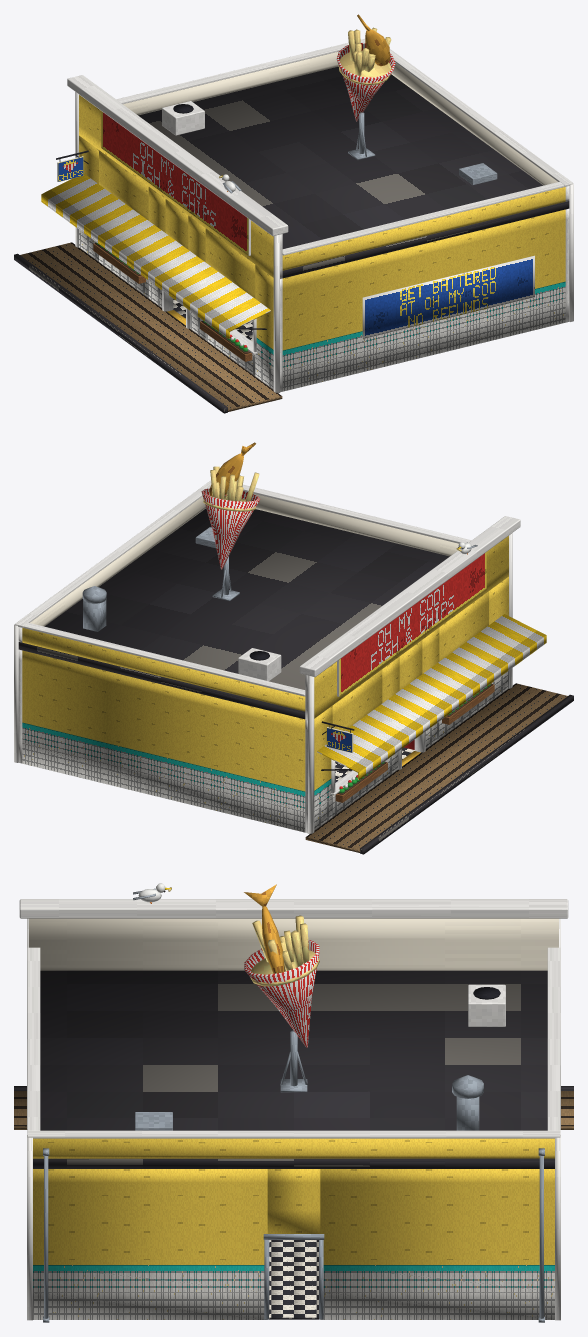
Rendered from p_pj_cod.glb.
The picture shows the model from 3 angles, top to bottom: view 1: azimuth 30°, elevation 25°; view 2: azimuth 150°, elevation 25°; view 3: azimuth 270°, elevation 25°; orthographic projection. The views are drawn at different scales.
Visible parts, largest first — view 1: p_pj_cod_lod0; view 2: p_pj_cod_lod0; view 3: p_pj_cod_lod0.
Boxes of the visible parts, left/top/right/bottom form: p_pj_cod_lod0: left=14, top=14, right=573, bottom=413; p_pj_cod_lod0: left=14, top=442, right=573, bottom=854; p_pj_cod_lod0: left=14, top=883, right=573, bottom=1322.
Size of what is drawn, in the model's own units: 14.58 by 10.5 by 14.8.
3 materials, 1 textured.
